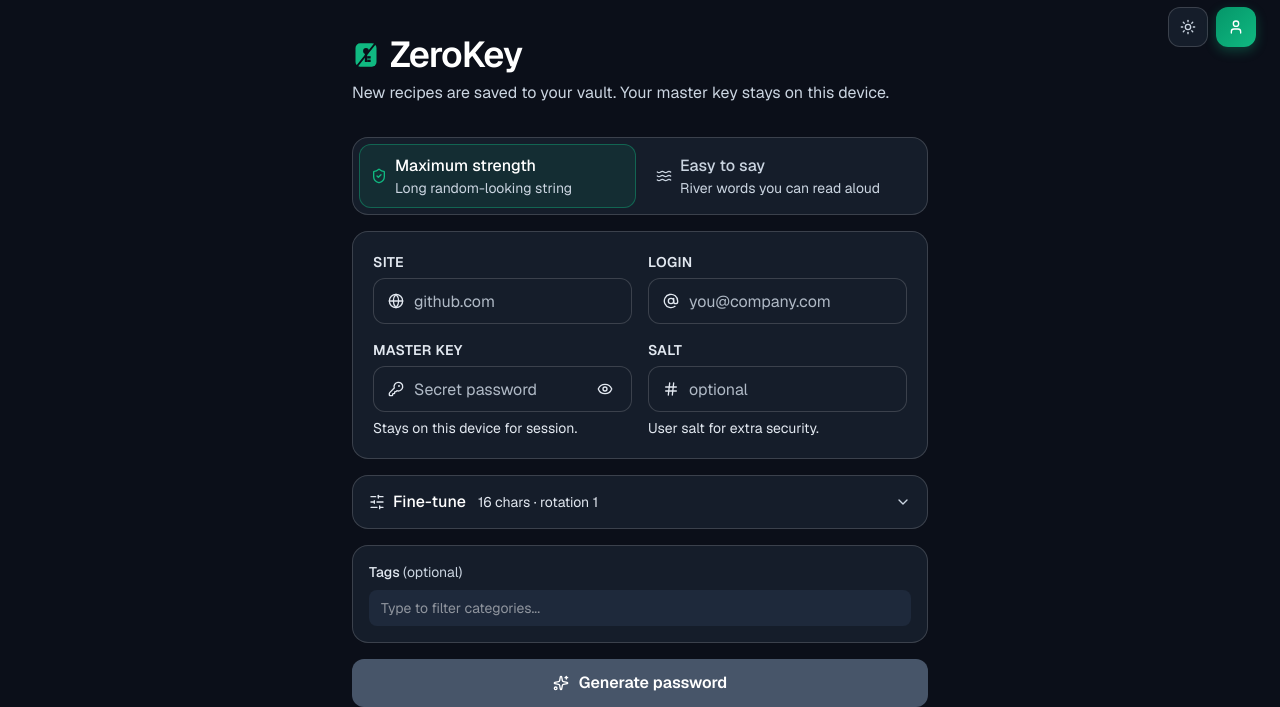
signed-in homepage recipe autosave › offers the saved account if another tab creates it first
Step 1. Type "example.com" into the field with placeholder "github.com" → (516,301), box x1=414 y1=279 x2=617 y2=323
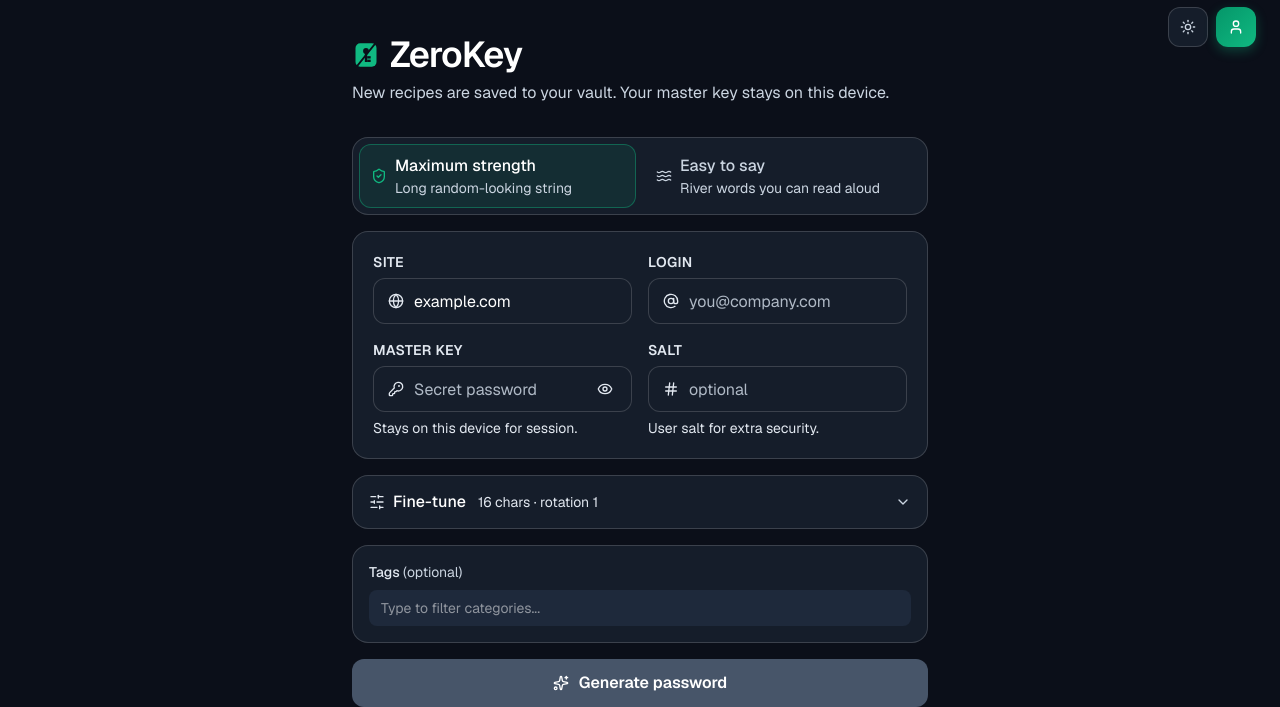
Step 2. Type "fixture@example.com" into the field with placeholder "you@company.com" → (790,301), box x1=689 y1=279 x2=892 y2=323
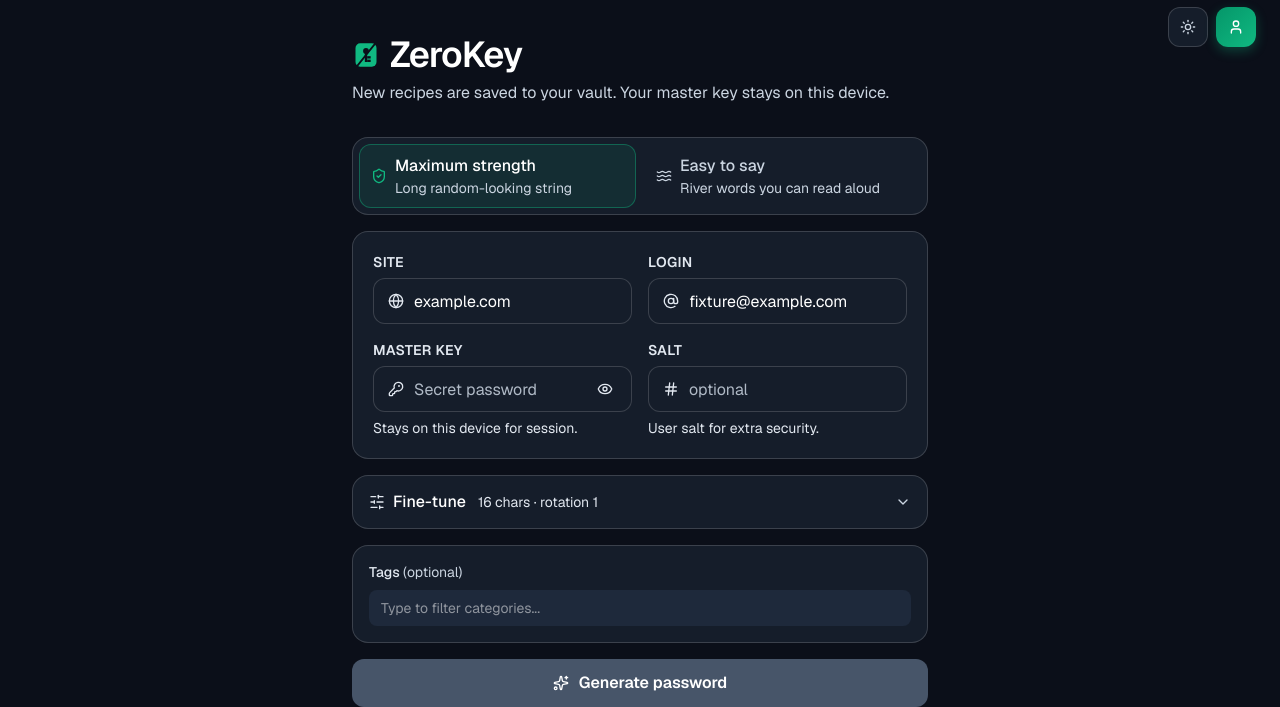
Step 3. Type "Synthetic master 01" into the password field with placeholder "Secret password" → (498,389), box x1=414 y1=367 x2=583 y2=411
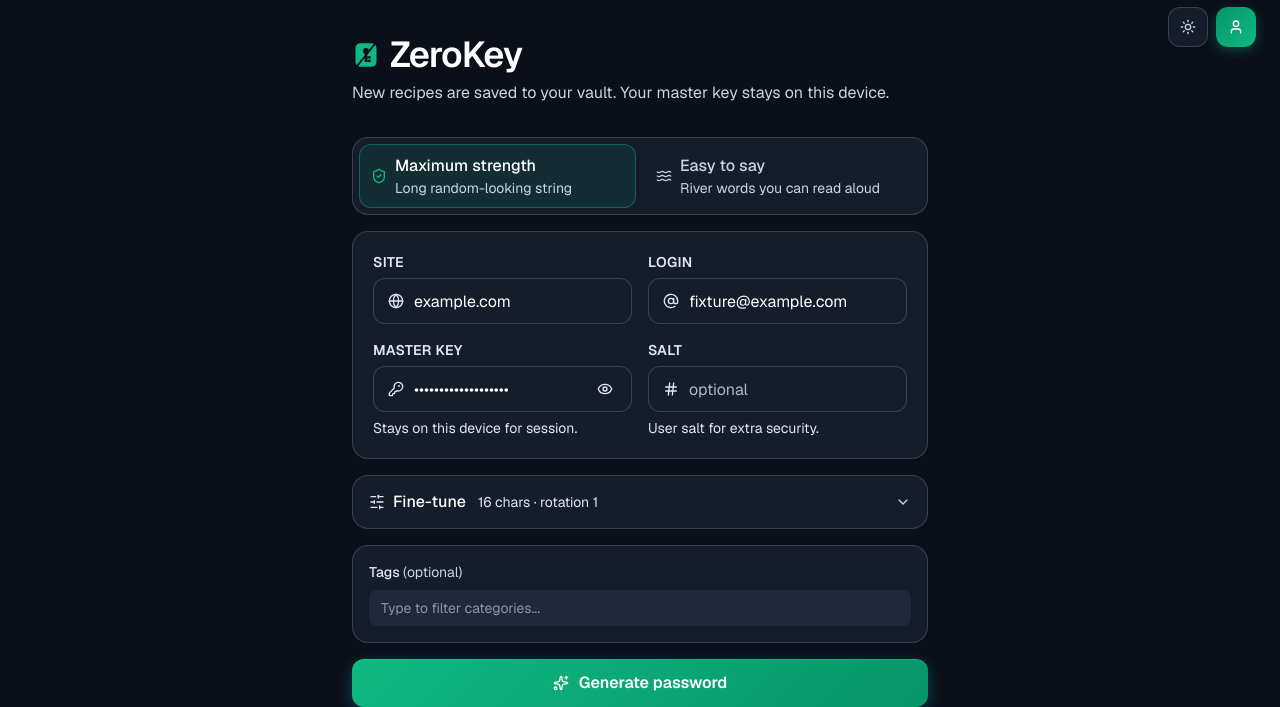
Step 4. Click the button "Generate password" → (640,683), box x1=352 y1=659 x2=928 y2=706
(page scrolled)
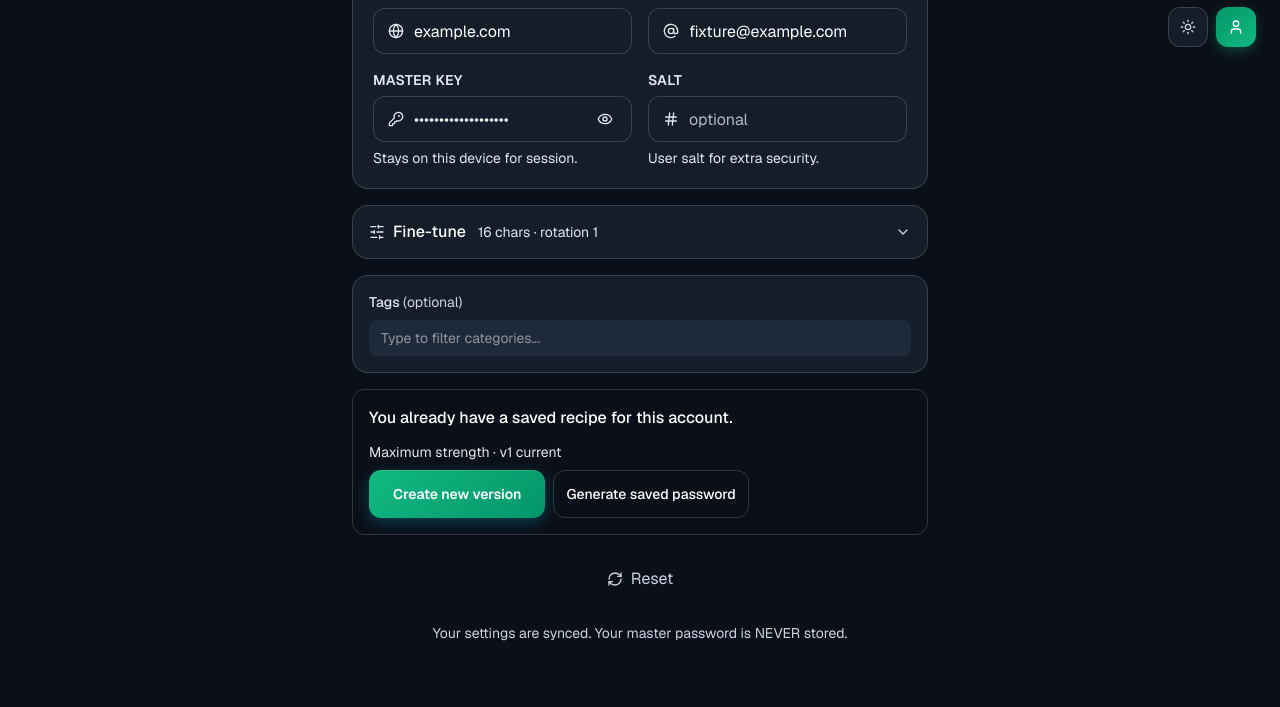
Result: the button "Create new version" is shown at x1=369 y1=470 x2=546 y2=518
